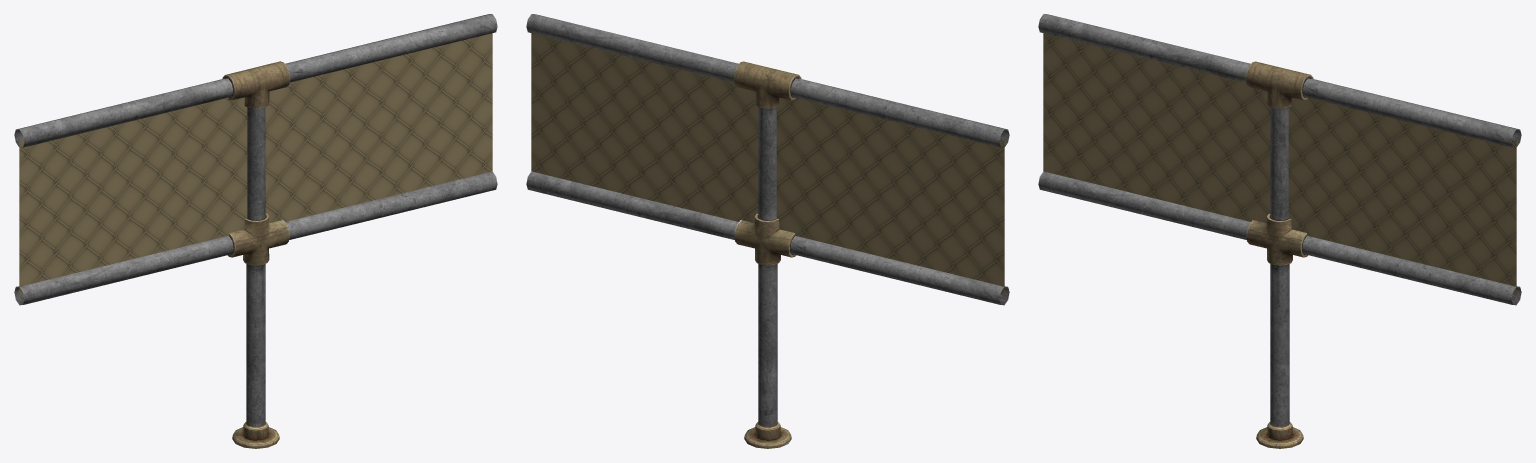
Rendered from railing_pplant_short_chainlink.dae.
3 views of the same model, side by side, from view 1: azimuth 30°, elevation 25°; view 2: azimuth 150°, elevation 25°; view 3: azimuth 330°, elevation 25° (orthographic).
Parts seen in each view (by area): view 1: railing_pplant_short_chainlink; view 2: railing_pplant_short_chainlink; view 3: railing_pplant_short_chainlink.
Part boxes in pixels (left/top/right/bottom): railing_pplant_short_chainlink: left=14, top=14, right=497, bottom=448; railing_pplant_short_chainlink: left=526, top=14, right=1009, bottom=448; railing_pplant_short_chainlink: left=1038, top=14, right=1521, bottom=448.
Size of the model in its own units: 2 by 1.49 by 0.1737.
